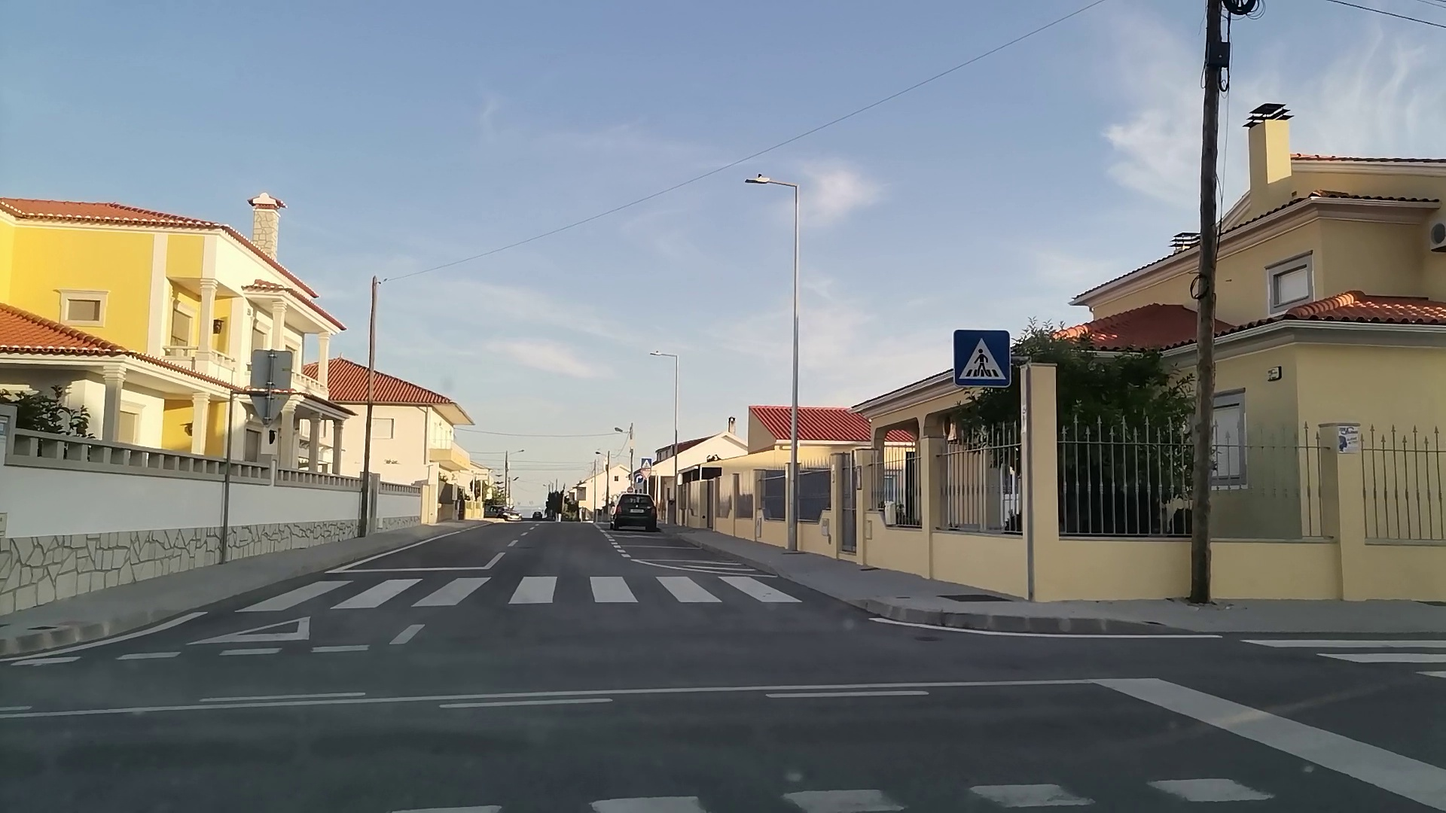Stairs: (242, 572, 802, 608)
